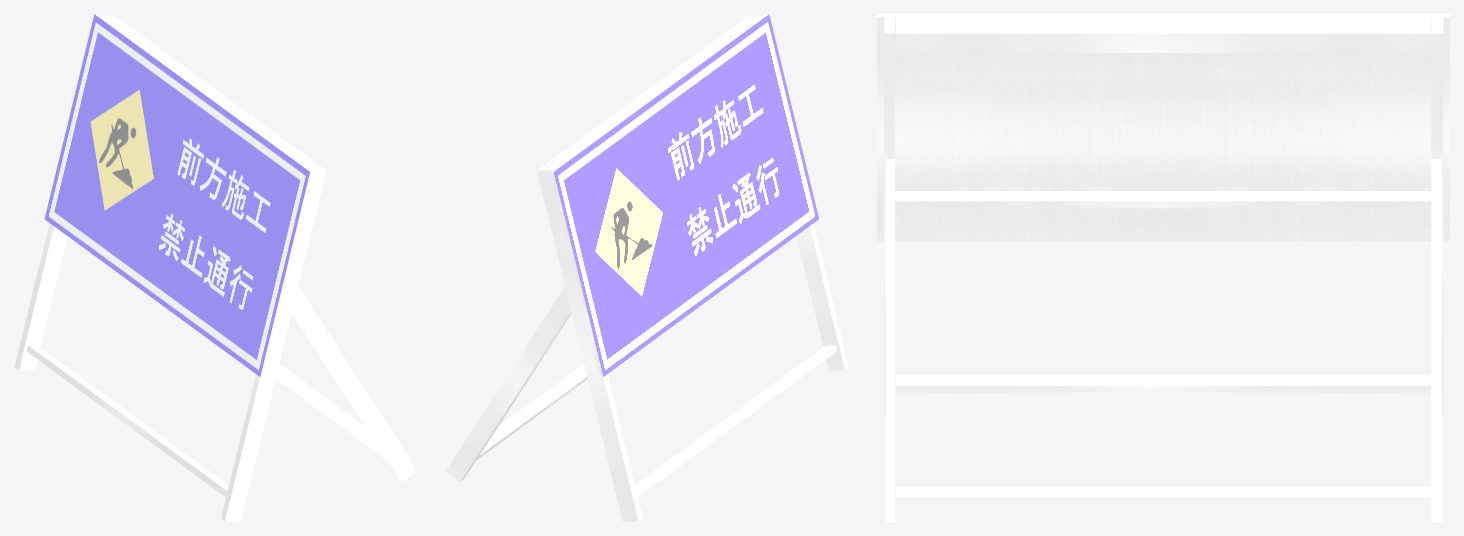
File: RoadWorkSign.glb
3 renders of one model, left to right at view 1: azimuth 30°, elevation 25°; view 2: azimuth 150°, elevation 25°; view 3: azimuth 270°, elevation 25°, orthographic. The views are drawn at different scales.
Visible parts, largest first — view 1: 前方道路施工标志; view 2: 前方道路施工标志; view 3: 前方道路施工标志.
Part boxes in pixels (x1,y1,x2,y2): 前方道路施工标志: [14, 14, 417, 521]; 前方道路施工标志: [446, 14, 848, 521]; 前方道路施工标志: [877, 14, 1449, 521].
Bounding box in the file's own units: 0.9 × 1.5 × 1.74.
2 materials, 2 textured.
